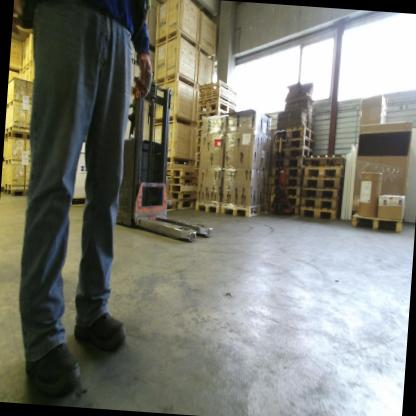pallet: (350, 207, 404, 234), (220, 199, 268, 223), (272, 123, 317, 148), (299, 153, 349, 173), (297, 204, 345, 223), (300, 173, 346, 190), (196, 99, 238, 117), (273, 134, 315, 151), (273, 146, 315, 163), (300, 162, 344, 178), (301, 185, 342, 202), (296, 194, 342, 209), (272, 163, 304, 179), (272, 154, 305, 169), (193, 200, 225, 215), (198, 109, 230, 123), (271, 176, 302, 190), (5, 128, 33, 142), (168, 181, 198, 194), (270, 185, 301, 197), (166, 166, 197, 178), (270, 195, 298, 207), (269, 205, 298, 216), (3, 189, 31, 200), (166, 176, 196, 186), (167, 191, 195, 201), (177, 199, 195, 213), (195, 144, 203, 153), (266, 167, 273, 177), (197, 120, 203, 131), (196, 136, 203, 144), (264, 203, 269, 213), (268, 176, 272, 188), (267, 188, 272, 197), (195, 152, 200, 161), (195, 161, 200, 169), (196, 131, 203, 136), (267, 194, 270, 204)
pallet_truck: (267, 128, 302, 221)
